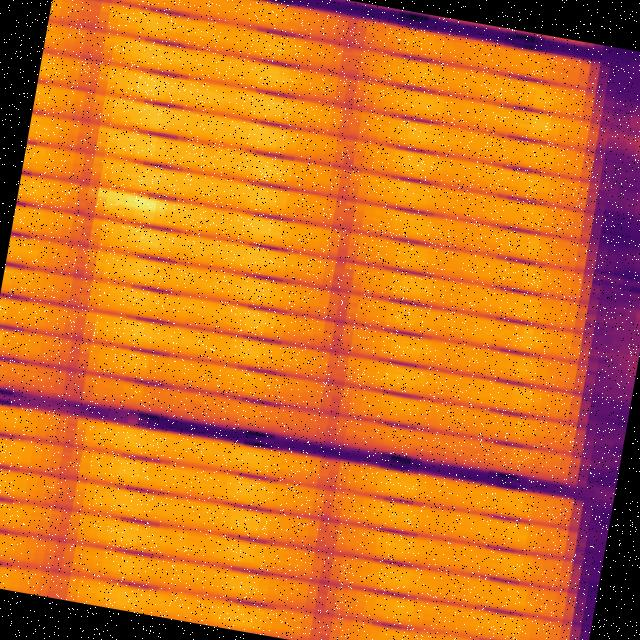Hotspot: (94, 188, 176, 220)
